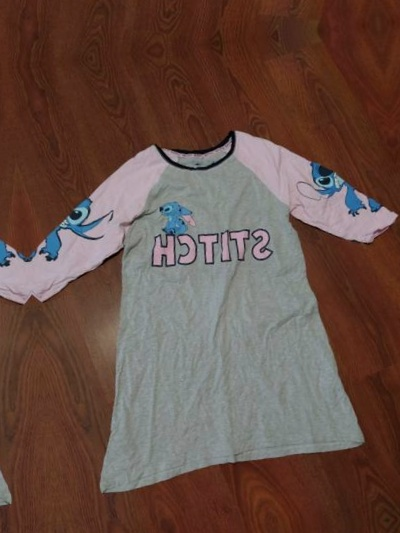Dress: (20, 104, 400, 510), (0, 149, 51, 533), (399, 59, 400, 465)
